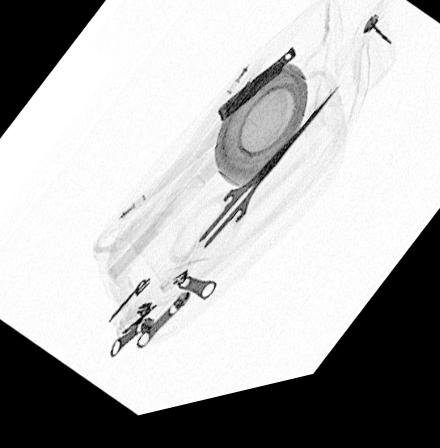Scissors: (165, 98, 340, 299)
